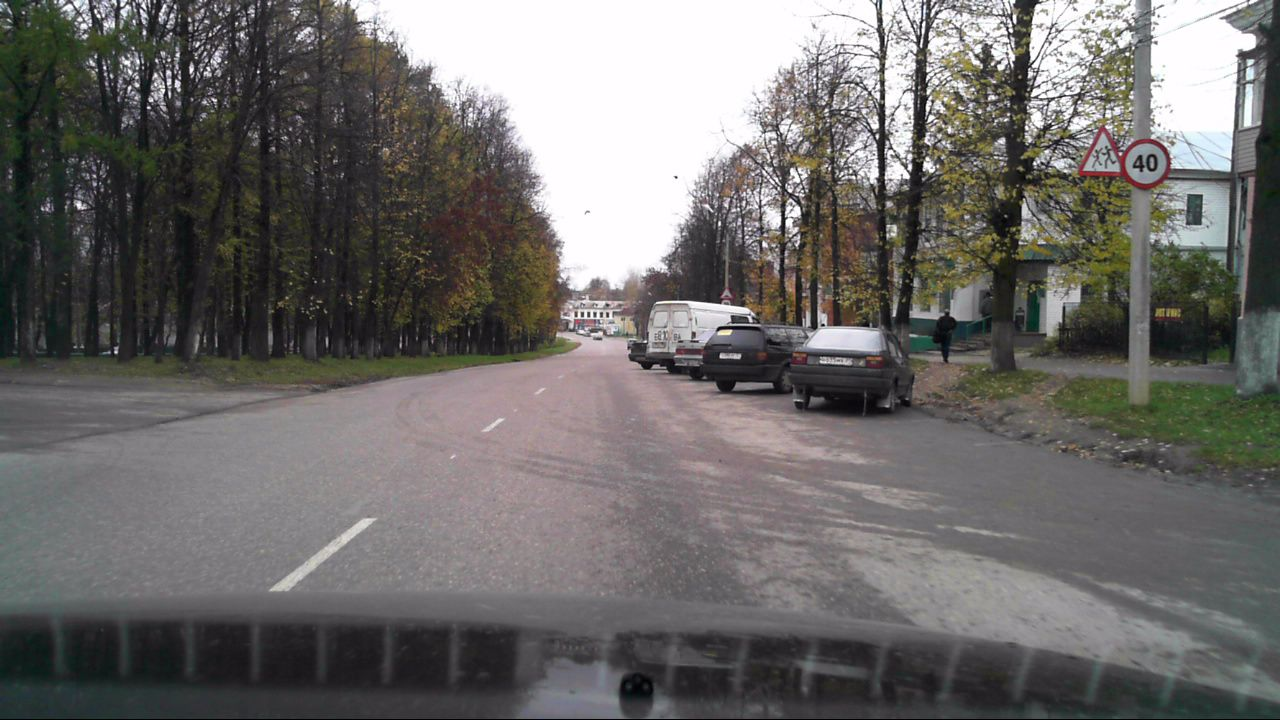speed_warning_40: (1123, 138, 1172, 189)
